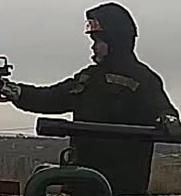gloves: (0, 77, 23, 102), (155, 112, 178, 124)
helmet: (83, 9, 109, 34)
vest: (72, 59, 155, 181)
